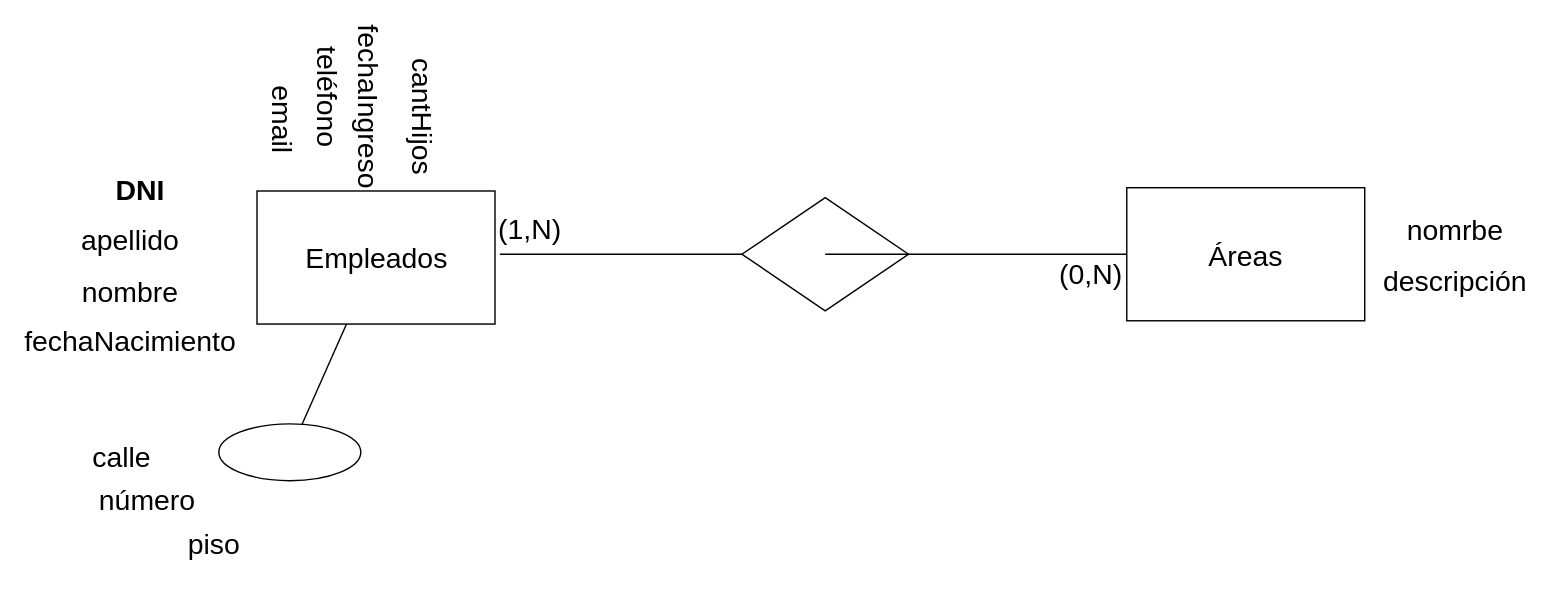
The diagram is 1551 pixels wide and 599 high, and some of its shapes have lost their labels. The shapes that lost their labels are listed below. From the top down, each one's centre as x and y in pixels, then its label:
(x=825, y=253): Trabaja
(x=289, y=451): dirección
